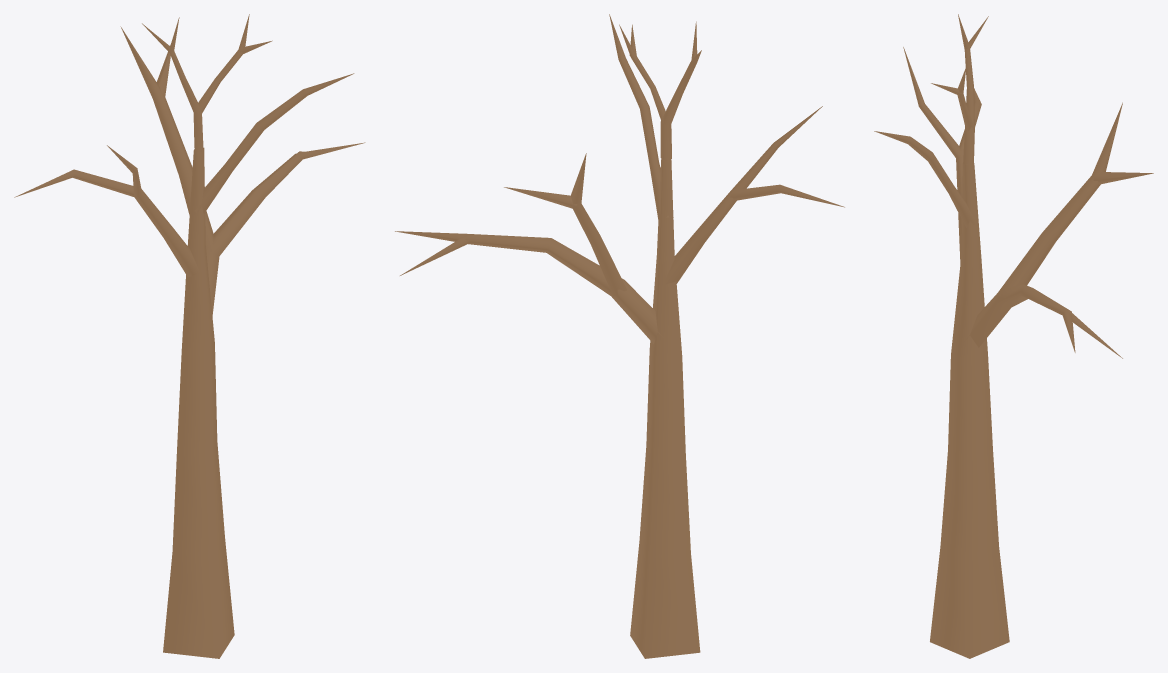
The model's file is trunk.glb.
The picture shows the model from 3 angles, left to right: view 1: azimuth 30°, elevation 25°; view 2: azimuth 150°, elevation 25°; view 3: azimuth 270°, elevation 25°; orthographic projection. The views are drawn at different scales.
Visible parts, largest first — view 1: Trunk_LOD1; view 2: Trunk_LOD1; view 3: Trunk_LOD1.
Boxes of the visible parts, x1=… form: Trunk_LOD1: x1=14, y1=14, x2=365, y2=658; Trunk_LOD1: x1=395, y1=14, x2=844, y2=658; Trunk_LOD1: x1=874, y1=14, x2=1153, y2=658.
Bounding box in the file's own units: 1.39 × 2.09 × 0.8593.
